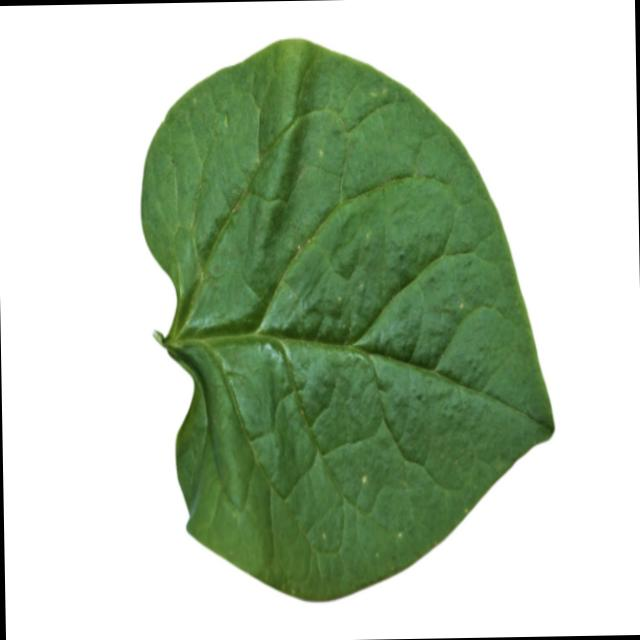Medicinal-Basale: (139, 31, 558, 606)
